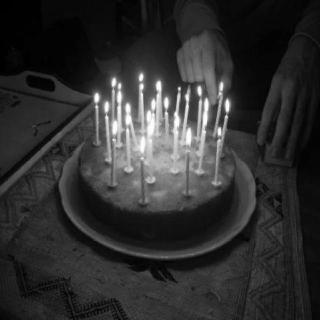Fire: (116, 87, 126, 111)
